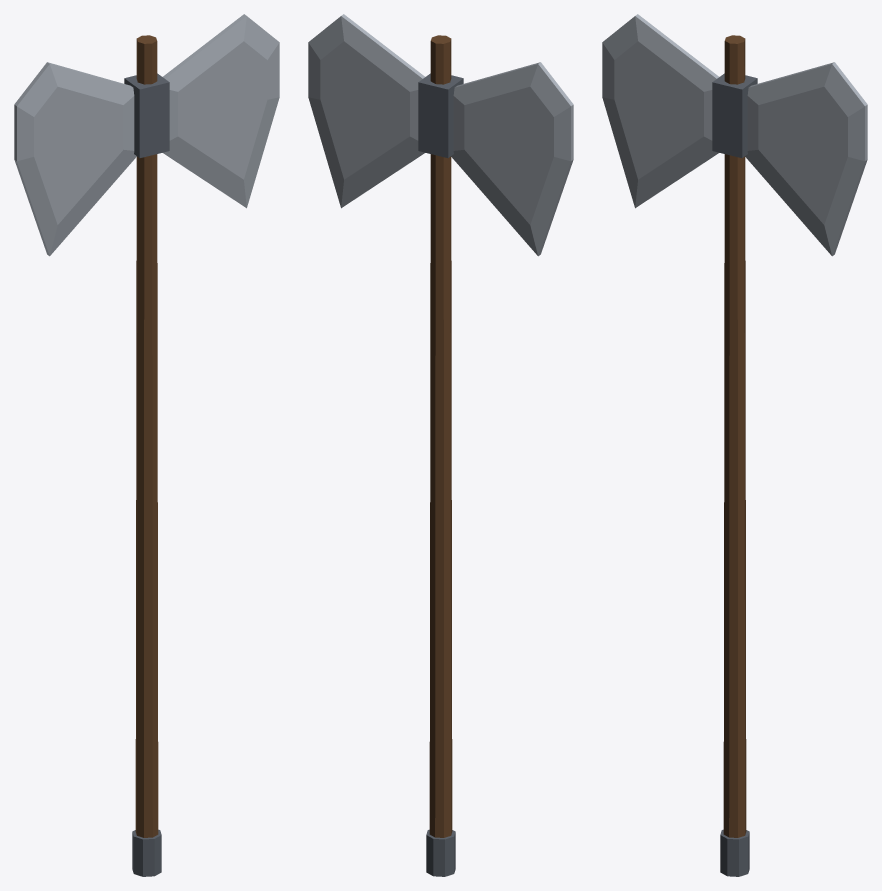
The model's file is g-greataxe-double.glb.
The picture shows the model from 3 angles, left to right: view 1: azimuth 30°, elevation 25°; view 2: azimuth 150°, elevation 25°; view 3: azimuth 330°, elevation 25°; orthographic projection.
Parts seen in each view (by area): view 1: g-greataxe-double; view 2: g-greataxe-double; view 3: g-greataxe-double.
Boxes of the visible parts, x1=… form: g-greataxe-double: x1=14, y1=14, x2=279, y2=876; g-greataxe-double: x1=308, y1=14, x2=573, y2=876; g-greataxe-double: x1=602, y1=14, x2=867, y2=876.
Bounding box in the file's own units: 0.44 × 1.33 × 0.045.
